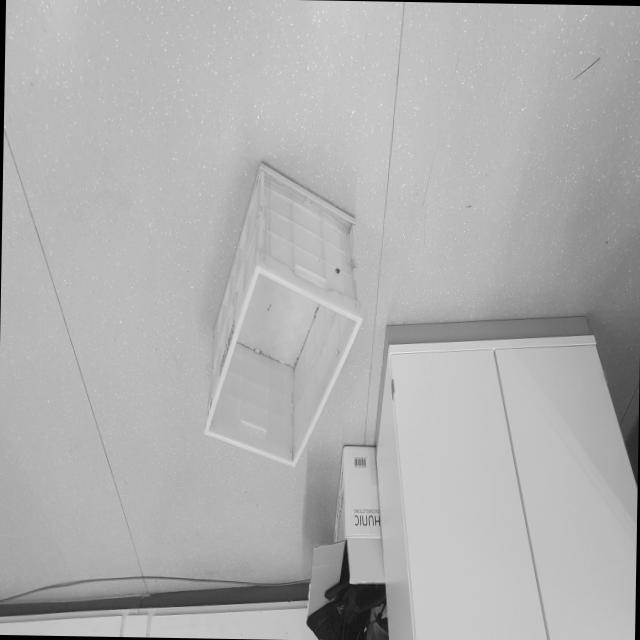box: (200, 152, 374, 479)
